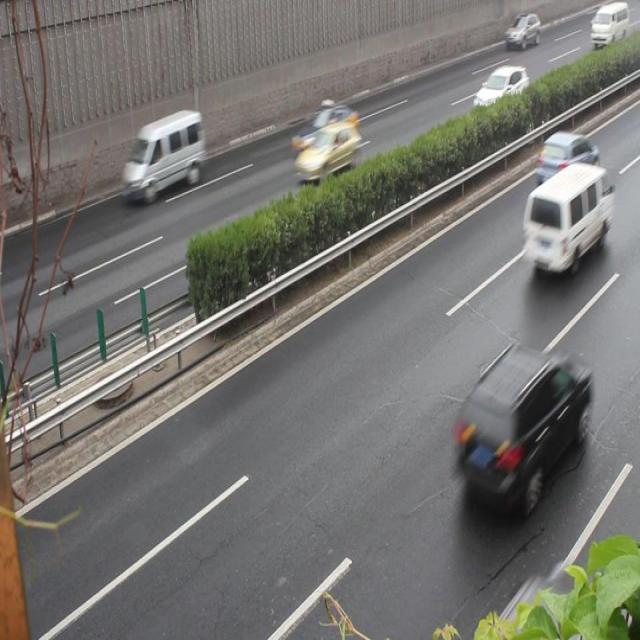car: (451, 346, 586, 510), (292, 122, 358, 180), (534, 129, 596, 190), (289, 102, 357, 156), (471, 64, 525, 115)
